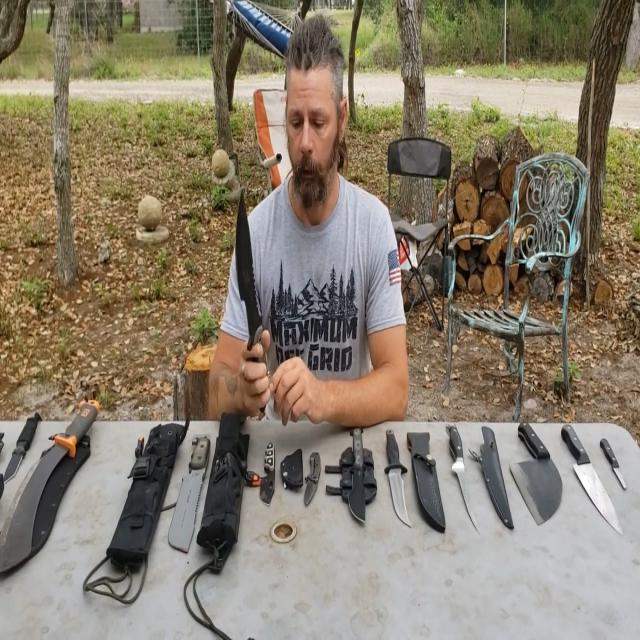knife: (0, 394, 106, 603), (227, 190, 286, 384), (497, 399, 568, 530), (558, 404, 626, 530), (437, 398, 494, 538), (166, 420, 216, 567), (378, 419, 420, 539), (0, 399, 43, 495), (343, 411, 373, 533), (245, 436, 285, 515), (597, 423, 639, 493), (300, 444, 326, 506)
